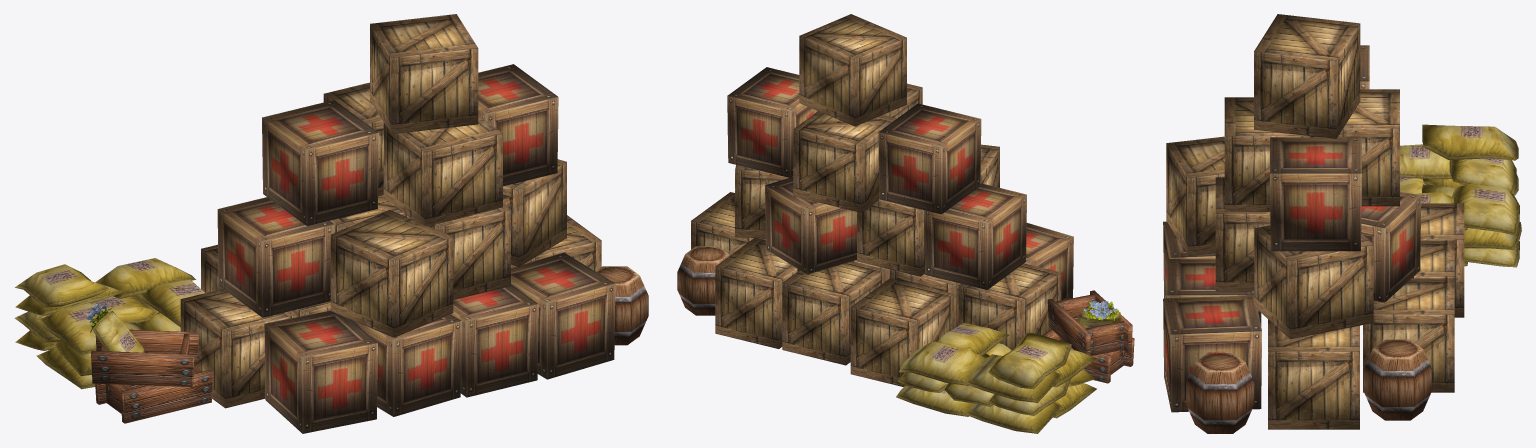
Rendered from hellfiresupplies_04.obj.
The picture shows the model from 3 angles, left to right: view 1: azimuth 30°, elevation 25°; view 2: azimuth 150°, elevation 25°; view 3: azimuth 270°, elevation 25°; orthographic projection. The views are drawn at different scales.
Visible parts, largest first — view 1: Geoset0, Geoset1, Geoset2, Geoset3, Geoset4; view 2: Geoset1, Geoset0, Geoset2, Geoset3, Geoset4; view 3: Geoset1, Geoset0, Geoset2, Geoset4.
Part boxes in pixels (x1,y1,x2,y2): Geoset0: (217,64,615,433); Geoset1: (180,14,601,408); Geoset2: (14,258,204,389); Geoset3: (91,329,213,423); Geoset4: (596,266,648,345); Geoset1: (691,14,1061,386); Geoset0: (727,67,1073,300); Geoset2: (896,307,1121,433); Geoset3: (1043,290,1134,383); Geoset4: (677,246,729,315); Geoset1: (1166,14,1464,429); Geoset0: (1163,45,1421,412); Geoset2: (1400,124,1521,267); Geoset4: (1186,339,1432,433).
Size of the model in its own units: 8.51 by 5.04 by 5.17.
7 materials, 7 textured.
